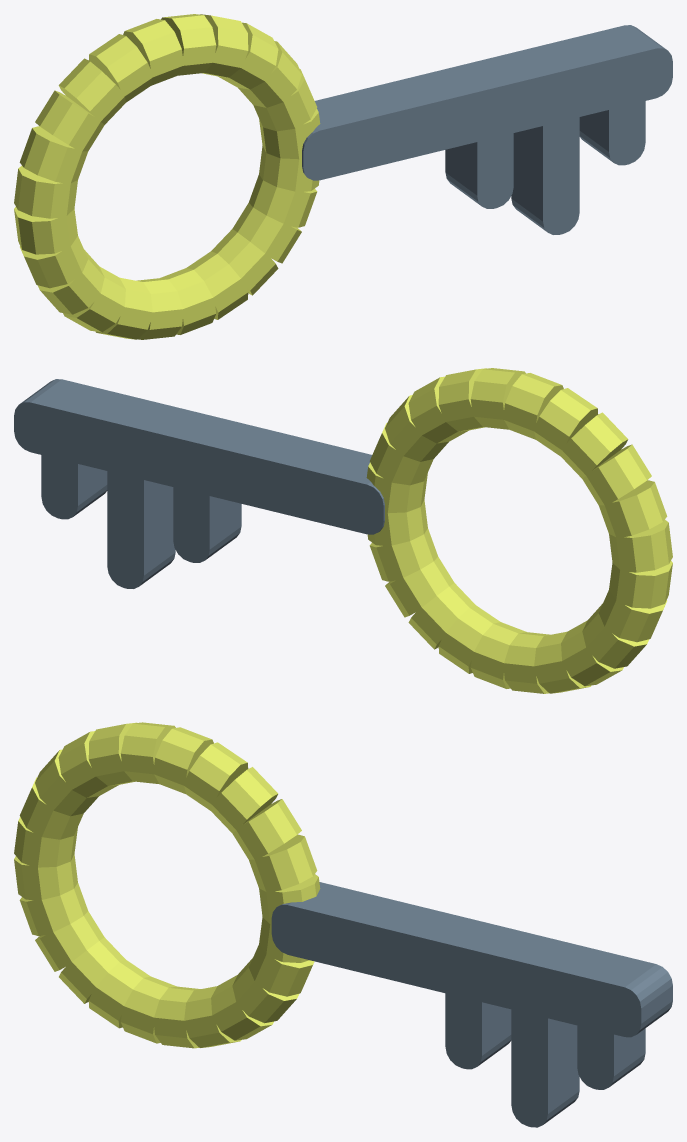
File: key.glb
3 views of the same model, one above another, from view 1: azimuth 30°, elevation 25°; view 2: azimuth 150°, elevation 25°; view 3: azimuth 330°, elevation 25° (orthographic).
Parts seen in each view (by area): view 1: shaft, tooth 1, tooth 0, tooth 2, key ring10, key ring7, key ring8, key ring9, key ring11, key ring6, key ring12, key ring5 (+16 smaller); view 2: shaft, tooth 1, tooth 0, tooth 2, key ring10, key ring7, key ring8, key ring9, key ring11, key ring6, key ring12, key ring5 (+16 smaller); view 3: shaft, tooth 1, tooth 0, tooth 2, key ring1, key ring4, key ring3, key ring2, key ring5, key ring6, key ring14, key ring15 (+16 smaller).
Part boxes in pixels (x1,y1,x2,y2): shaft: (302, 25, 672, 180); tooth 1: (511, 103, 579, 234); tooth 0: (445, 119, 513, 208); tooth 2: (579, 87, 645, 165); key ring10: (19, 126, 88, 184); key ring7: (88, 34, 153, 102); key ring8: (58, 58, 125, 124); key ring9: (35, 90, 104, 151); key ring11: (14, 166, 77, 218); key ring6: (123, 19, 183, 85); key ring12: (14, 207, 77, 254); key ring5: (161, 14, 216, 75); shaft: (14, 379, 384, 534); tooth 1: (107, 457, 175, 588); tooth 0: (173, 473, 241, 562); tooth 2: (41, 442, 107, 519); key ring10: (598, 480, 667, 538); key ring7: (533, 388, 598, 456); key ring8: (561, 412, 628, 478); key ring9: (582, 444, 651, 505); key ring11: (609, 520, 672, 572); key ring6: (503, 373, 563, 439); key ring12: (609, 561, 672, 608); key ring5: (470, 368, 525, 429); shaft: (271, 882, 672, 1037); tooth 1: (511, 996, 579, 1127); tooth 0: (445, 981, 511, 1069); tooth 2: (577, 1012, 645, 1089); key ring1: (249, 834, 317, 891); key ring4: (183, 742, 248, 810); key ring3: (211, 767, 278, 833); key ring2: (232, 799, 301, 859); key ring5: (154, 727, 213, 793); key ring6: (120, 722, 175, 784); key ring14: (35, 911, 104, 971); key ring15: (59, 937, 125, 1003).
Bounding box in the file's own units: 1.75 × 0.8228 × 0.15.
